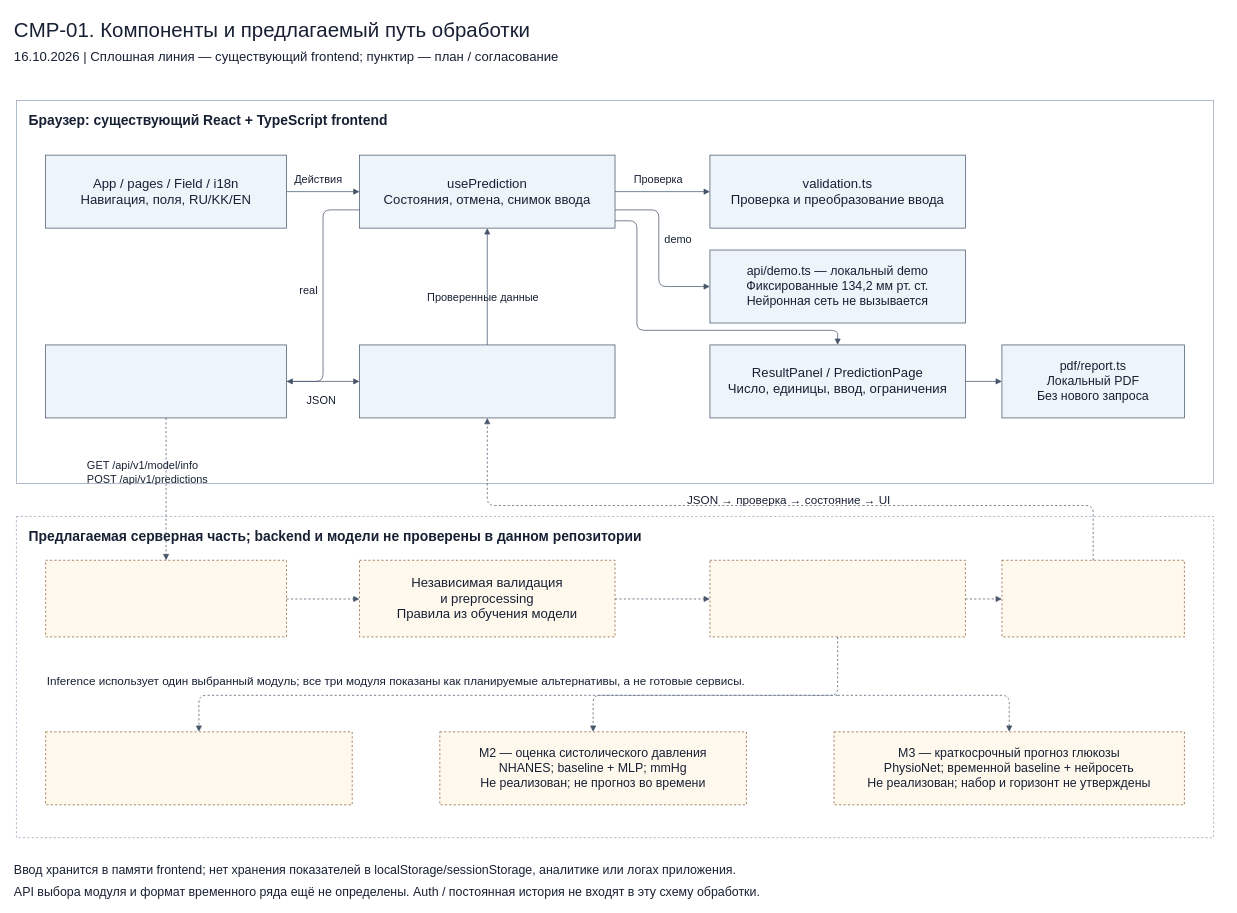
Some shapes in this 1237 by 913 pixel diagram are drawn without their labels. The shapes that lost their labels are listed below. From the top down, each one's box as (x1, y1, x2, y2) in pixels, then its label:
(45, 344, 287, 418): api/http.ts + environment.ts Явный real; timeout; GET / POST
(359, 344, 615, 418): api/contract.ts Проверка метаданных и ответа
(45, 560, 287, 637): Spring Boot REST API Предварительные GET / POST Контракт требует согласования
(709, 560, 965, 637): Model Inference Выбор совместимого артефакта Способ Java / Python не выбран
(1001, 560, 1184, 637): API Response JSON: число, единица, версия / ошибка
(45, 731, 352, 805): M1 — Diabetes Progression Регрессионный baseline + MLP Не реализован; не диагноз
